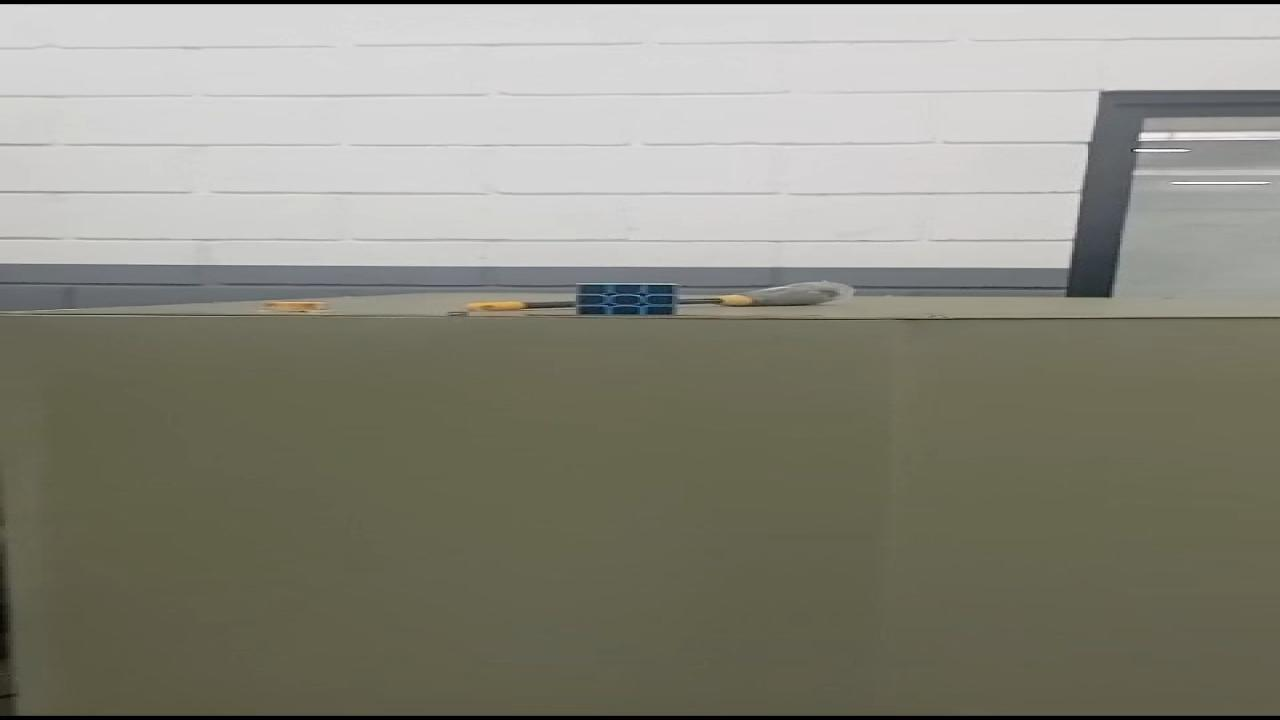Cube: (564, 282, 690, 318)
